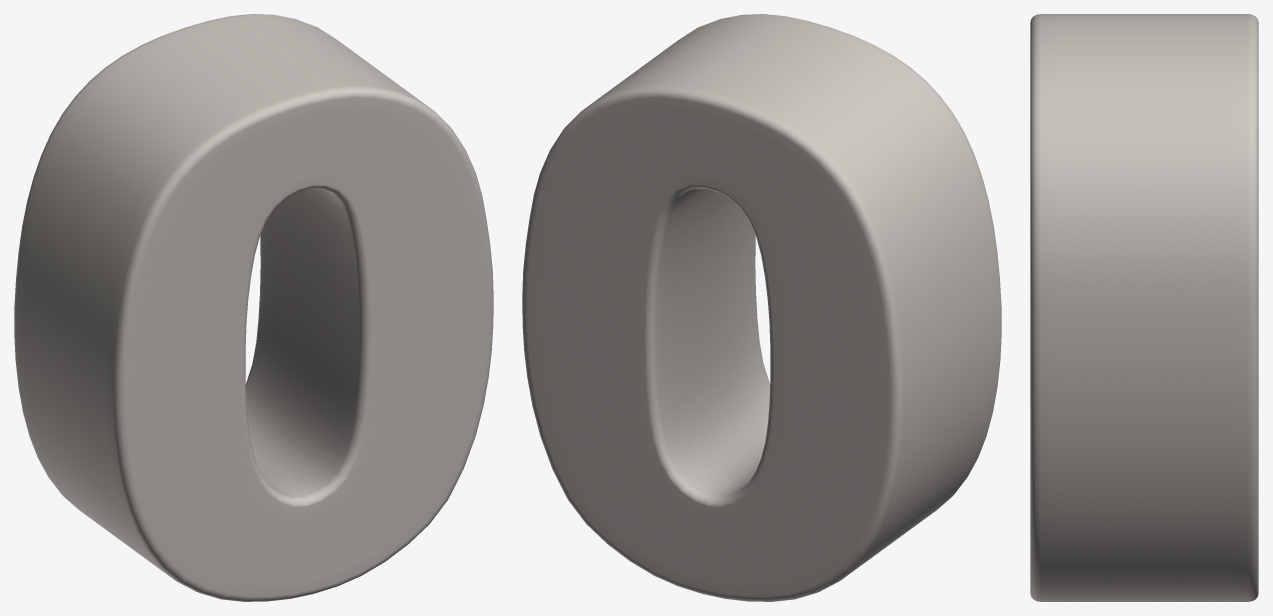
Rendered from Zero.glb.
3 views of the same model, side by side, from view 1: azimuth 30°, elevation 25°; view 2: azimuth 150°, elevation 25°; view 3: azimuth 270°, elevation 25° (orthographic). The views are drawn at different scales.
Parts seen in each view (by area): view 1: node_id30; view 2: node_id30; view 3: node_id30.
Boxes of the visible parts, box(x1,y1,x2,y2) form: node_id30: box(14, 14, 493, 601); node_id30: box(522, 14, 1001, 601); node_id30: box(1030, 14, 1258, 601).
Size of the model in its own units: 0.4056 by 0.512 by 0.1984.
1 material, 1 textured.
